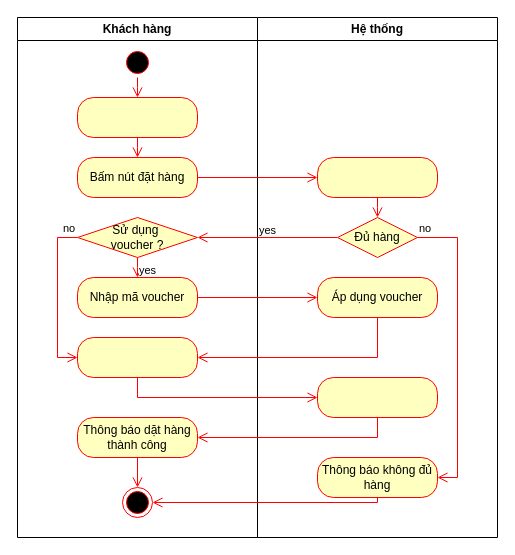
Image size: 515x555. Some labels were removed from this diagram. Each missing label, with the centre of its shape:
"Kiểm tra tồn kho" belongs at point 377,177.
"Thêm sản phẩm vào giỏ hàng" belongs at point 137,117.
"Tạo đơn hàng thành công" belongs at point 377,397.
"Xác nhận đặt hàng" belongs at point 137,357.
